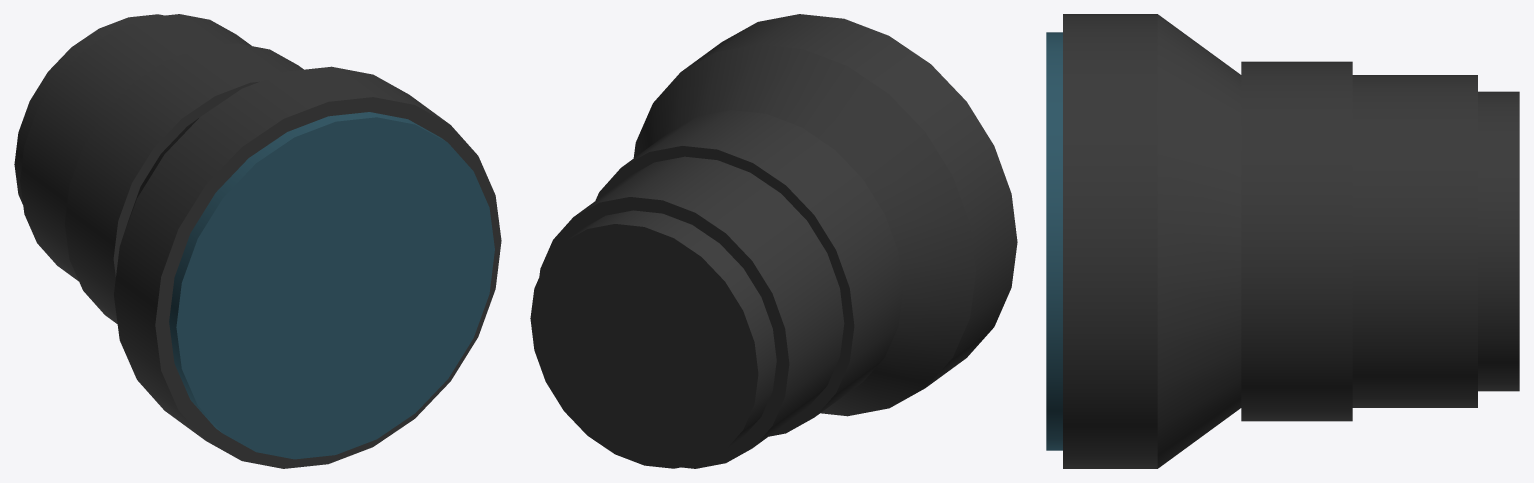
The model's file is ET-DLE055.glb.
3 renders of one model, left to right at view 1: azimuth 30°, elevation 25°; view 2: azimuth 150°, elevation 25°; view 3: azimuth 270°, elevation 25°, orthographic. The views are drawn at different scales.
Parts seen in each view (by area): view 1: Lens_Glass, Lens_Barrel; view 2: Lens_Barrel; view 3: Lens_Barrel, Lens_Glass.
Boxes of the visible parts, x1,y1,x2,y2 form: Lens_Glass: (169,112,494,459); Lens_Barrel: (14,14,501,468); Lens_Barrel: (530,14,1017,468); Lens_Barrel: (1063,14,1519,468); Lens_Glass: (1046,32,1062,450).
Size of the model in its own units: 0.1394 by 0.1394 by 0.1445.
